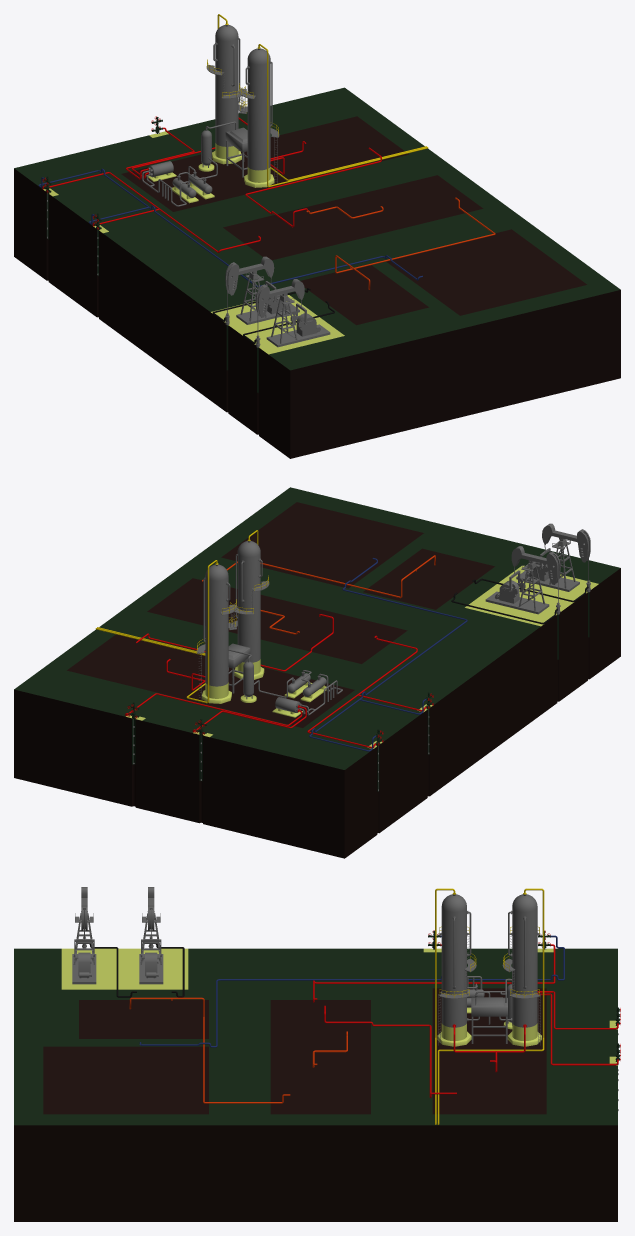
Rendered from M_TBC_changjing.fbx.
3 renders of one model, top to bottom at view 1: azimuth 30°, elevation 25°; view 2: azimuth 150°, elevation 25°; view 3: azimuth 270°, elevation 25°, orthographic. The views are drawn at different scales.
Parts seen in each view (by area): view 1: diceng_01, caodi, zhuanmian, fenlita, chouyouji01, shuinilumian, chouyiuji02, guandao05, guandao03, guandao01, guandao04; view 2: diceng_01, caodi, zhuanmian, fenlita, shuinilumian, chouyiuji02, guandao05, chouyouji01, guandao03, guandao01, guandao04; view 3: diceng_01, caodi, zhuanmian, fenlita, shuinilumian, guandao05, chouyiuji02, chouyouji01, guandao01, guandao03, guandao04, guandao02.
Boxes of the visible parts, x1=… form: diceng_01: x1=14, y1=168, x2=620, y2=458; caodi: x1=14, y1=87, x2=620, y2=370; zhuanmian: x1=121, y1=116, x2=586, y2=325; fenlita: x1=142, y1=25, x2=279, y2=206; chouyouji01: x1=255, y1=279, x2=330, y2=347; shuinilumian: x1=43, y1=131, x2=344, y2=354; chouyiuji02: x1=225, y1=256, x2=299, y2=325; guandao05: x1=42, y1=117, x2=381, y2=252; guandao03: x1=38, y1=168, x2=422, y2=287; guandao01: x1=217, y1=14, x2=428, y2=187; guandao04: x1=306, y1=197, x2=495, y2=289; diceng_01: x1=14, y1=568, x2=620, y2=858; caodi: x1=14, y1=487, x2=620, y2=769; zhuanmian: x1=67, y1=502, x2=494, y2=727; fenlita: x1=196, y1=541, x2=342, y2=717; shuinilumian: x1=126, y1=565, x2=598, y2=748; chouyiuji02: x1=485, y1=546, x2=560, y2=614; guandao05: x1=125, y1=614, x2=426, y2=748; chouyouji01: x1=516, y1=523, x2=590, y2=592; guandao03: x1=309, y1=558, x2=467, y2=751; guandao01: x1=95, y1=530, x2=258, y2=703; guandao04: x1=202, y1=555, x2=435, y2=634; diceng_01: x1=14, y1=1125, x2=617, y2=1221; caodi: x1=14, y1=948, x2=617, y2=1125; zhuanmian: x1=43, y1=988, x2=546, y2=1114; fenlita: x1=437, y1=894, x2=541, y2=1046; shuinilumian: x1=61, y1=948, x2=617, y2=1065; guandao05: x1=313, y1=944, x2=618, y2=1098; chouyiuji02: x1=139, y1=887, x2=163, y2=984; chouyouji01: x1=72, y1=887, x2=96, y2=984; guandao01: x1=435, y1=888, x2=544, y2=1124; guandao03: x1=139, y1=935, x2=564, y2=1047; guandao04: x1=129, y1=997, x2=347, y2=1103; guandao02: x1=89, y1=944, x2=184, y2=997.
Bounding box in the file's own units: 4957 × 3221 × 7156.
